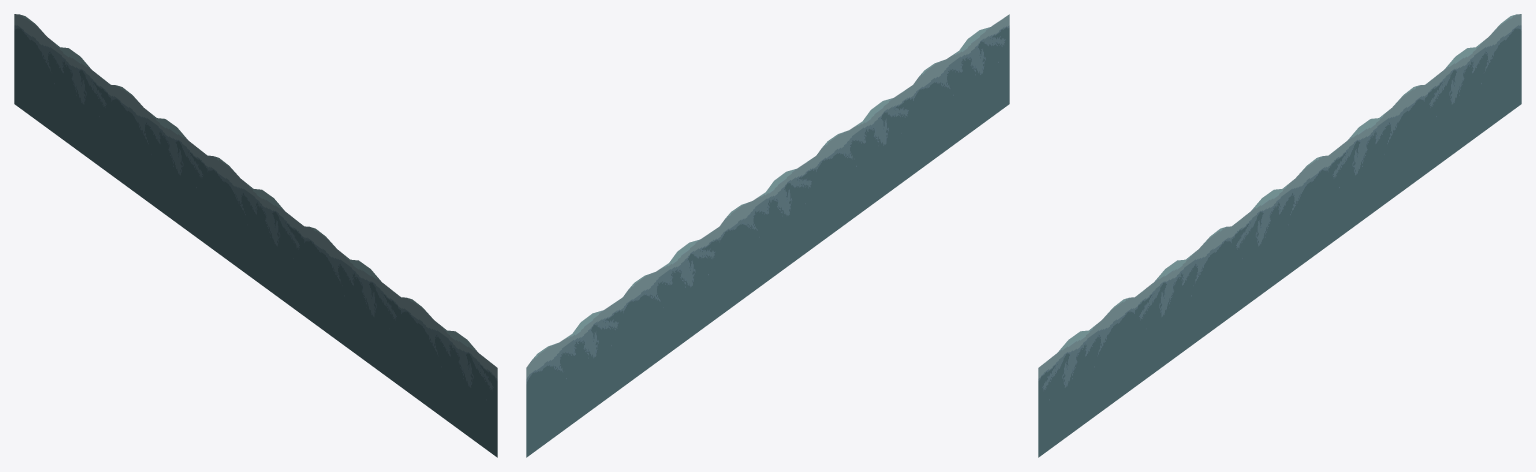
File: BgMD_Dis_Plain_A.FBX
3 views of the same model, side by side, from view 1: azimuth 30°, elevation 25°; view 2: azimuth 150°, elevation 25°; view 3: azimuth 330°, elevation 25° (orthographic).
Visible parts, largest first — view 1: BgMD_Dis_Plain_A; view 2: BgMD_Dis_Plain_A; view 3: BgMD_Dis_Plain_A.
Boxes of the visible parts, x1,y1,x2,y2 form: BgMD_Dis_Plain_A: (14,14,497,457); BgMD_Dis_Plain_A: (526,14,1009,457); BgMD_Dis_Plain_A: (1038,14,1521,457).
Size of the model in its own units: 0 by 932 by 8500.
